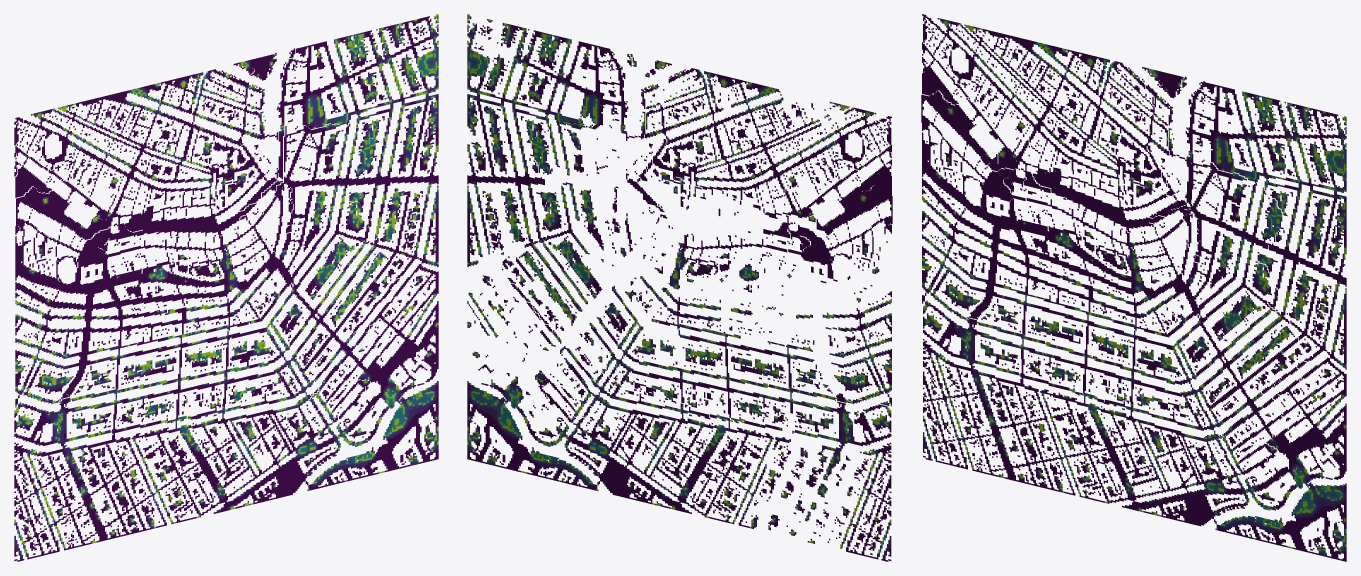
File: amsterdam_gvi.obj
3 views of the same model, side by side, from view 1: azimuth 30°, elevation 25°; view 2: azimuth 150°, elevation 25°; view 3: azimuth 330°, elevation 25° (orthographic).
Size of the model in its own units: 1500 by 1505 by 15.
